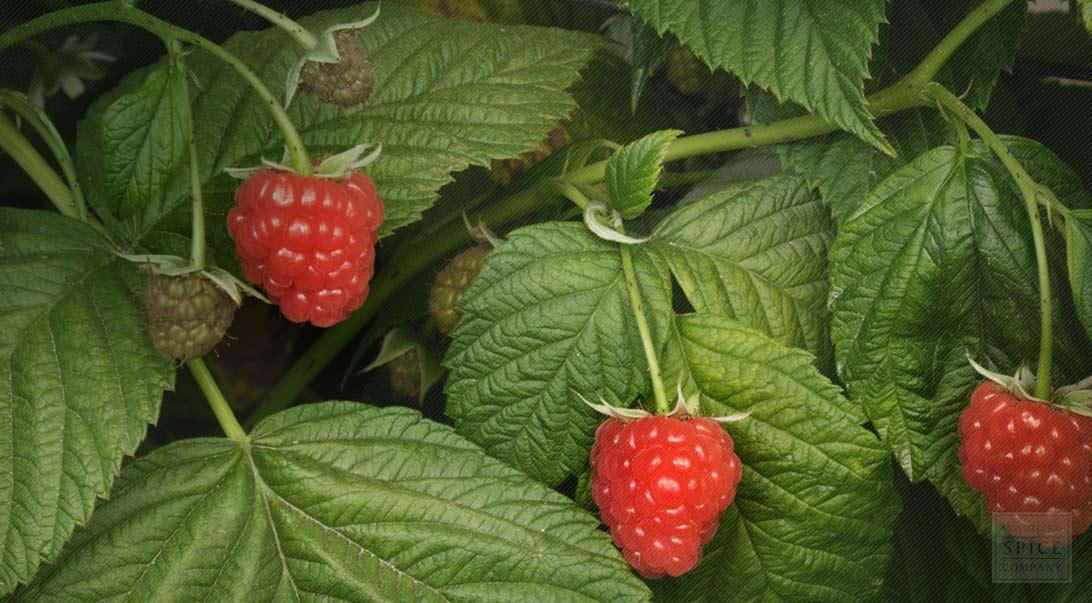Raspberry leaf: (69, 419, 667, 603), (827, 130, 1092, 482), (273, 1, 620, 245), (1, 202, 206, 552), (654, 306, 883, 603), (446, 206, 655, 478)
